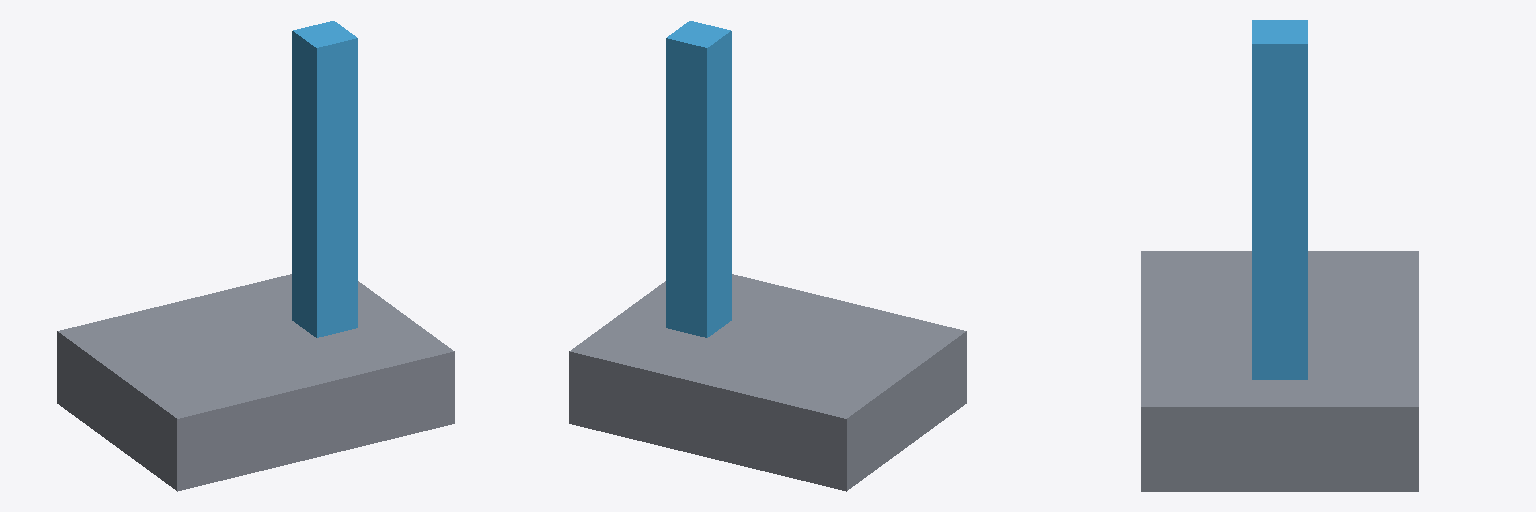
URDF robot description (demo_bot_plain):
<?xml version="1.0"?>
<robot name="demo_bot_plain">
  <material name="steel"><color rgba="0.6 0.62 0.66 1"/></material>
  <link name="base_link">
    <visual><origin xyz="0 0 0.11"/><geometry><mesh filename="package://demo_bot/meshes/base.stl" scale="0.001 0.001 0.001"/></geometry><material name="steel"/></visual>
  </link>
  <link name="arm">
    <visual><geometry><mesh filename="../meshes/arm.dae"/></geometry></visual>
  </link>
  <joint name="arm_joint" type="revolute"><origin xyz="0.1 0 0.16"/><parent link="base_link"/><child link="arm"/><axis xyz="0 1 0"/><limit lower="-1.57" upper="1.57" effort="1" velocity="1"/></joint>
  <link name="gripper">
    <visual><origin xyz="0 0 0.025"/><geometry><mesh filename="file:///opt/ros/humble/share/demo_bot/meshes/gripper.obj"/></geometry></visual>
  </link>
  <joint name="gripper_joint" type="fixed"><origin xyz="0 0 0.4"/><parent link="arm"/><child link="gripper"/></joint>
  <link name="sensor">
    <visual><geometry><mesh filename="package://other_pkg/meshes/lidar.stl"/></geometry><material name="dark"><color rgba="0.2 0.2 0.25 1"/></material></visual>
    <collision><geometry><cylinder radius="0.04" length="0.05"/></geometry></collision>
  </link>
  <joint name="sensor_joint" type="fixed"><origin xyz="-0.12 0 0.19"/><parent link="base_link"/><child link="sensor"/></joint>
</robot>

--- Facts derived from the render (not from the file) ---
3 views of the same robot in one strip: view 1: azimuth 30°, elevation 25°; view 2: azimuth 150°, elevation 25°; view 3: azimuth 270°, elevation 25° (orthographic).
Model demo_bot_plain with 4 links and 3 joints (1 revolute, 2 fixed), rooted at base_link, posed every joint at zero.
Links seen in each view (by area): view 1: base_link, arm; view 2: base_link, arm; view 3: base_link, arm.
Boxes of the visible links, box(x1,y1,x2,y2) form: base_link: box(57, 274, 454, 491); arm: box(292, 21, 357, 337); base_link: box(569, 274, 966, 491); arm: box(666, 21, 731, 337); base_link: box(1141, 251, 1418, 491); arm: box(1252, 20, 1307, 379).
Bounding box of the posed robot: 0.4 × 0.3 × 0.5 m (x, y, z).
2 mesh visuals loaded from 3 distinct referenced files (1 binary STL, 1 Collada DAE); not drawn: 1 (reference not matched to a file when rendering), 1 (reference in a form the renderer does not follow; not among the files counted above).
